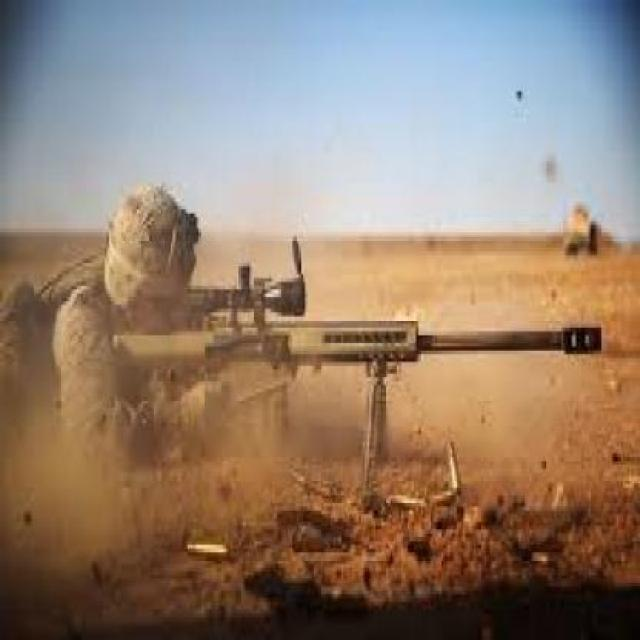weapon: (94, 220, 613, 504)
